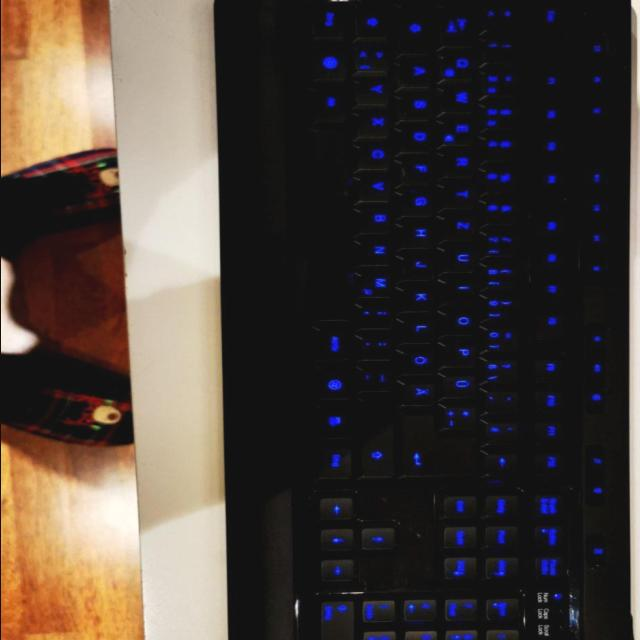0: (482, 324, 523, 351)
1: (481, 36, 521, 64)
2: (483, 68, 521, 96)
3: (481, 101, 522, 129)
4: (480, 133, 521, 161)
5: (483, 166, 522, 194)
6: (484, 197, 523, 225)
7: (481, 229, 522, 257)
8: (482, 262, 522, 288)
9: (483, 293, 523, 319)
a: (397, 60, 435, 86)
accent: (486, 387, 523, 412)
ae: (403, 380, 439, 405)
alt-left: (310, 85, 352, 123)
altgr-right: (315, 326, 354, 360)
b: (358, 207, 395, 233)
c: (358, 143, 395, 169)
caret: (484, 1, 521, 31)
comma: (359, 302, 397, 328)
d: (399, 125, 435, 151)
del: (484, 449, 524, 476)
e: (440, 118, 479, 144)
enter: (399, 413, 483, 477)
f: (401, 158, 437, 184)
g: (401, 190, 437, 216)
h: (401, 221, 437, 247)
hash: (483, 418, 523, 444)
i: (444, 278, 479, 303)
j: (401, 253, 438, 279)
k: (401, 285, 438, 310)
keyboard: (208, 0, 640, 640)
l: (402, 317, 438, 341)
less: (354, 43, 394, 73)
m: (357, 271, 396, 297)
minus: (360, 364, 398, 390)
n: (358, 239, 396, 265)
o: (443, 308, 479, 334)
oe: (402, 348, 438, 373)
p: (444, 341, 480, 366)
plus: (440, 401, 482, 429)
point: (360, 333, 398, 359)
q: (439, 51, 479, 79)
r: (442, 149, 478, 177)
s: (397, 92, 436, 120)
shift-left: (354, 0, 392, 38)
shift-lock: (395, 1, 435, 55)
shift-right: (361, 395, 398, 476)
space: (314, 126, 354, 320)
ss: (482, 355, 522, 382)
strg-left: (310, 0, 350, 39)
strg-right: (317, 441, 356, 480)
t: (443, 182, 479, 208)
tab: (439, 1, 479, 47)
u: (443, 246, 479, 272)
ue: (444, 371, 481, 397)
v: (359, 175, 395, 201)
w: (440, 84, 479, 112)
x: (356, 111, 393, 137)
y: (354, 78, 393, 104)
z: (443, 215, 479, 241)
